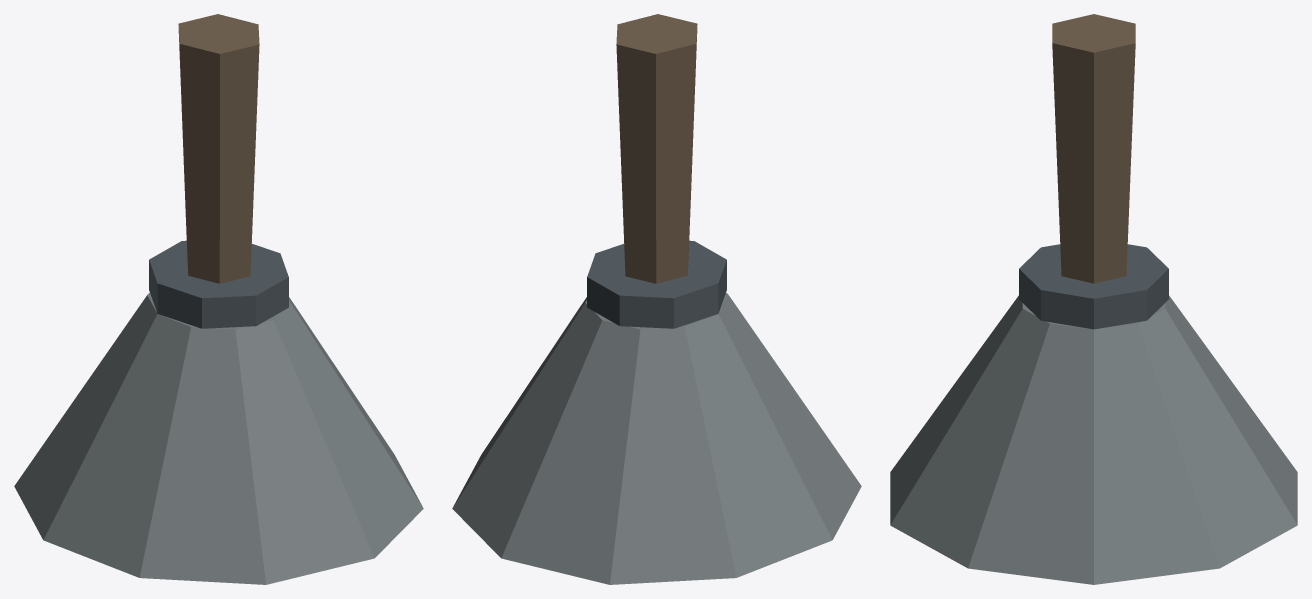
The model's file is hand_bell.glb.
The picture shows the model from 3 angles, left to right: view 1: azimuth 30°, elevation 25°; view 2: azimuth 150°, elevation 25°; view 3: azimuth 270°, elevation 25°; orthographic projection.
Parts seen in each view (by area): view 1: hand_bell; view 2: hand_bell; view 3: hand_bell.
Part boxes in pixels (x1=…): hand_bell: x1=14, y1=14, x2=423, y2=584; hand_bell: x1=452, y1=14, x2=861, y2=584; hand_bell: x1=890, y1=14, x2=1297, y2=584.
Bounding box in the file's own units: 0.3072 × 0.4 × 0.3072.
